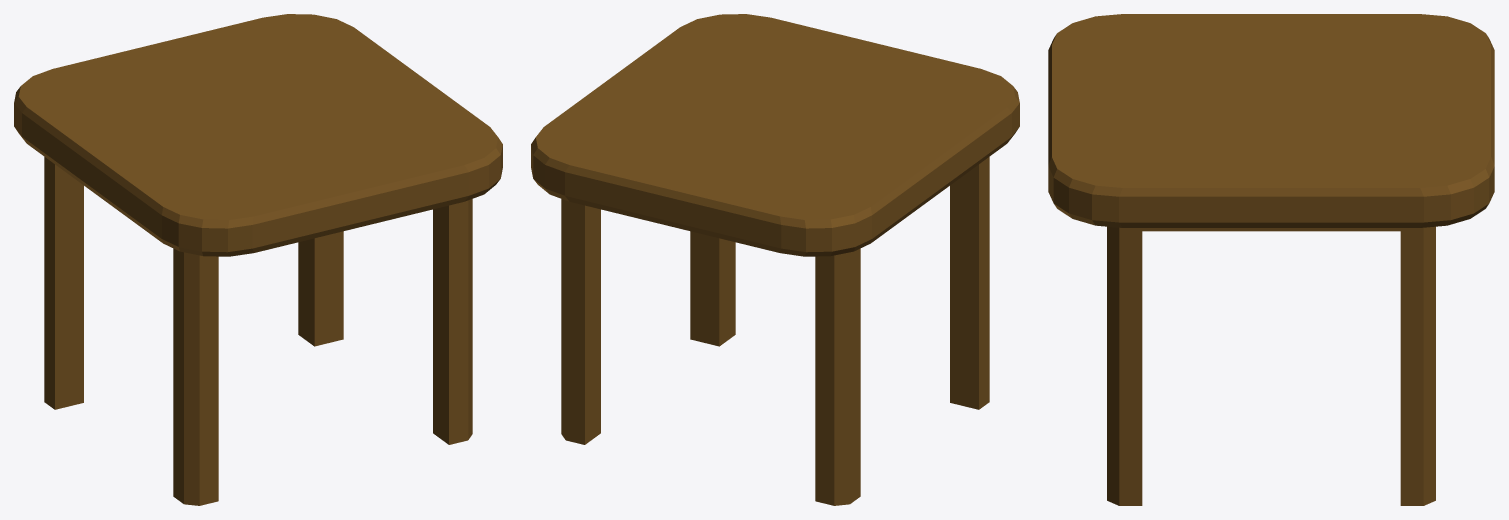
Rendered from Mesa1.fbx.
3 renders of one model, left to right at view 1: azimuth 30°, elevation 25°; view 2: azimuth 150°, elevation 25°; view 3: azimuth 270°, elevation 25°, orthographic. The views are drawn at different scales.
Parts seen in each view (by area): view 1: Cube.013; view 2: Cube.013; view 3: Cube.013.
Part boxes in pixels (x1=…): Cube.013: x1=14, y1=14, x2=502, y2=505; Cube.013: x1=531, y1=14, x2=1019, y2=505; Cube.013: x1=1048, y1=14, x2=1494, y2=505.
Size of the model in its own units: 382 by 330 by 407.
